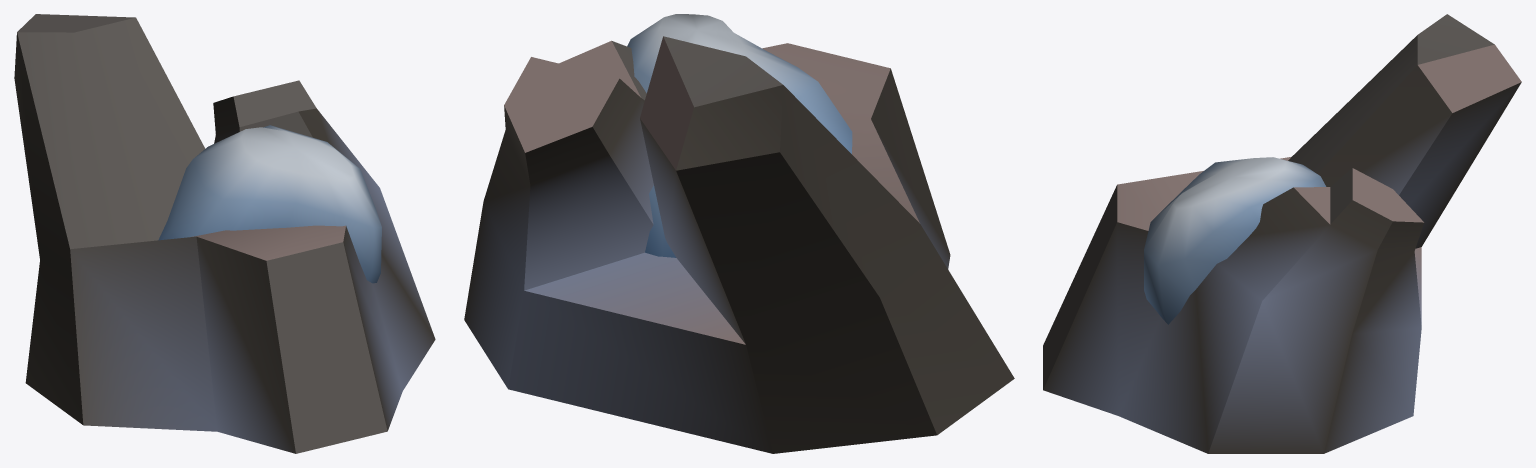
The model's file is Rock_01.fbx.
The picture shows the model from 3 angles, left to right: view 1: azimuth 30°, elevation 25°; view 2: azimuth 150°, elevation 25°; view 3: azimuth 270°, elevation 25°; orthographic projection. The views are drawn at different scales.
Visible parts, largest first — view 1: Rock_01; view 2: Rock_01; view 3: Rock_01.
Part boxes in pixels (x1=…): Rock_01: x1=14, y1=14, x2=435, y2=453; Rock_01: x1=464, y1=14, x2=1014, y2=453; Rock_01: x1=1043, y1=14, x2=1521, y2=453.
Bounding box in the file's own units: 898 × 714 × 1055.
